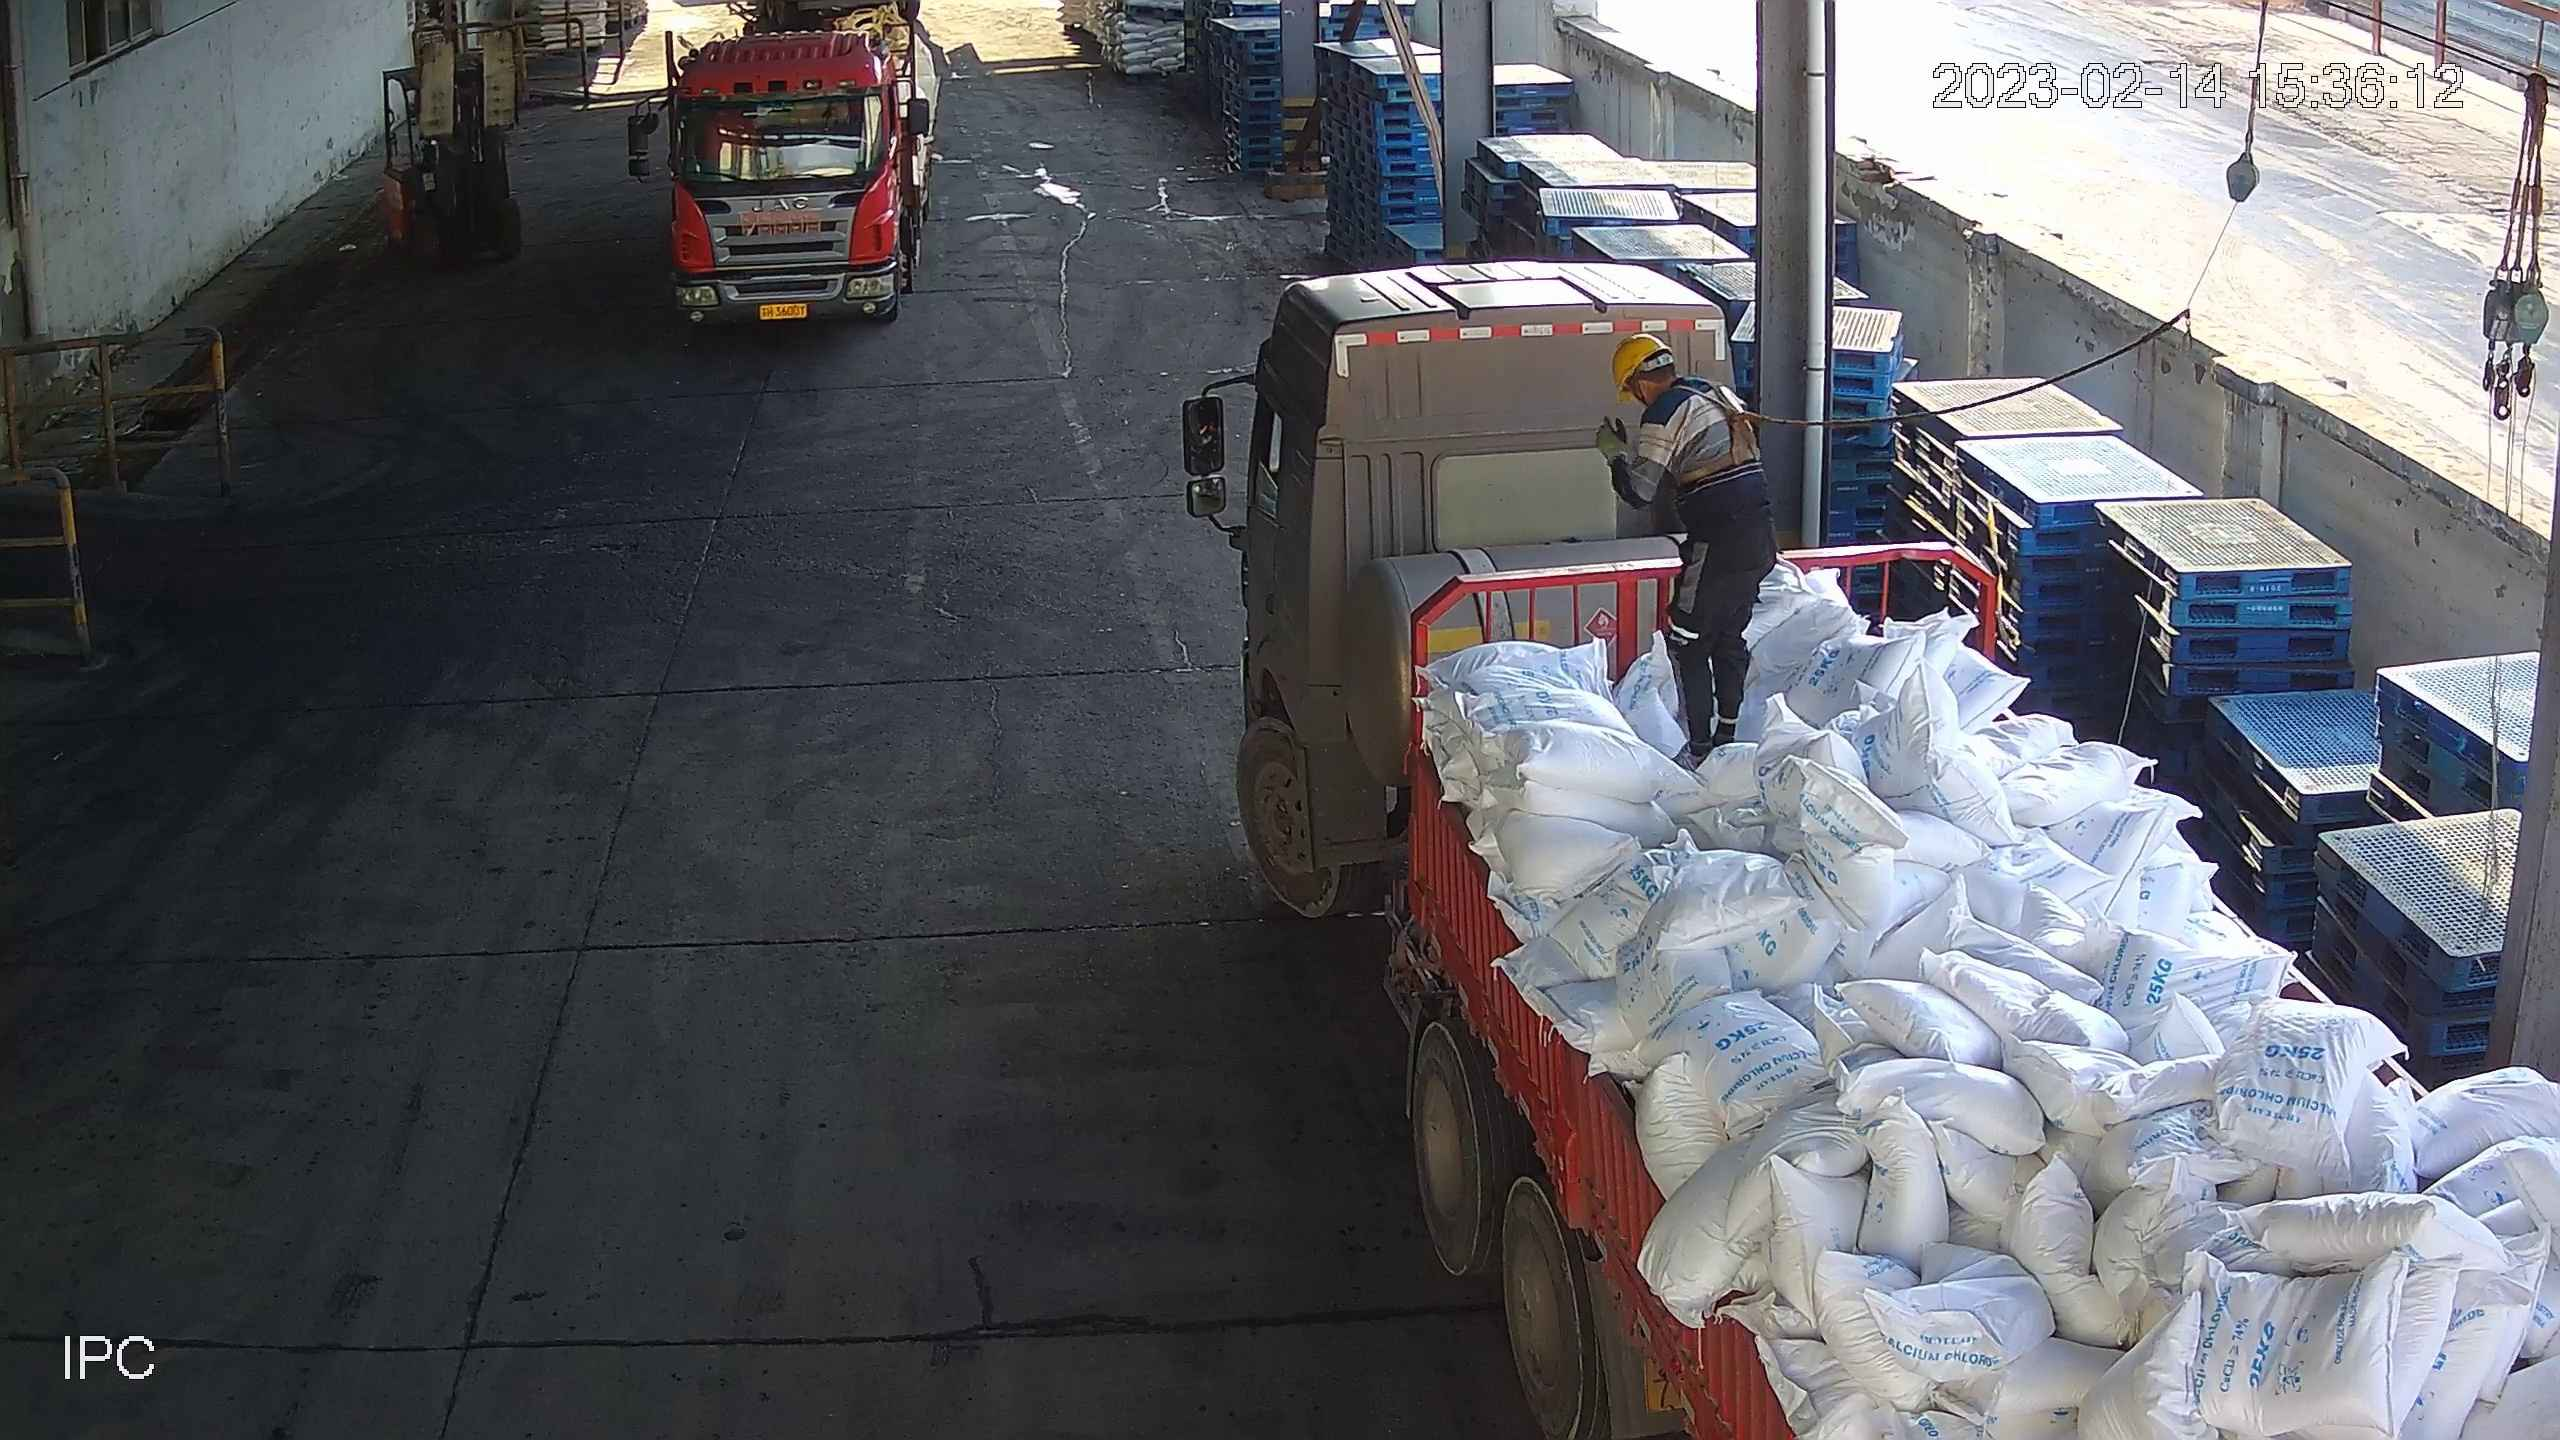belt: (1669, 377, 1775, 486)
head: (1608, 331, 1745, 439)
helmet: (1610, 331, 1675, 401)
people: (1595, 332, 1776, 774)
truck: (1175, 257, 2560, 1440), (623, 1, 945, 331)
